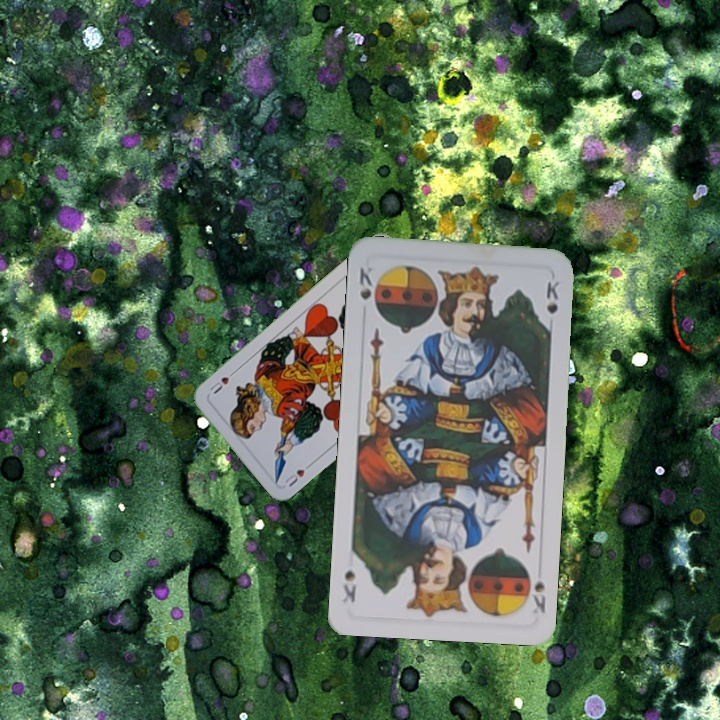HU: (281, 458, 315, 490)
SK: (521, 564, 548, 616), (355, 263, 375, 303)
